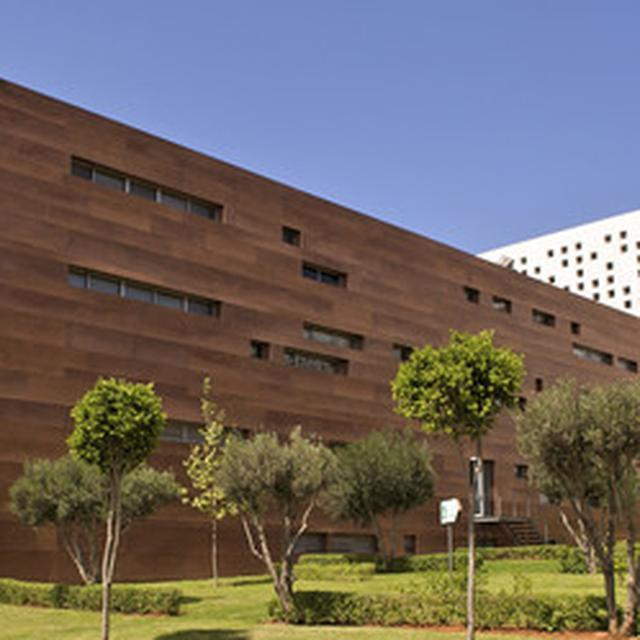building: (0, 76, 640, 592)
